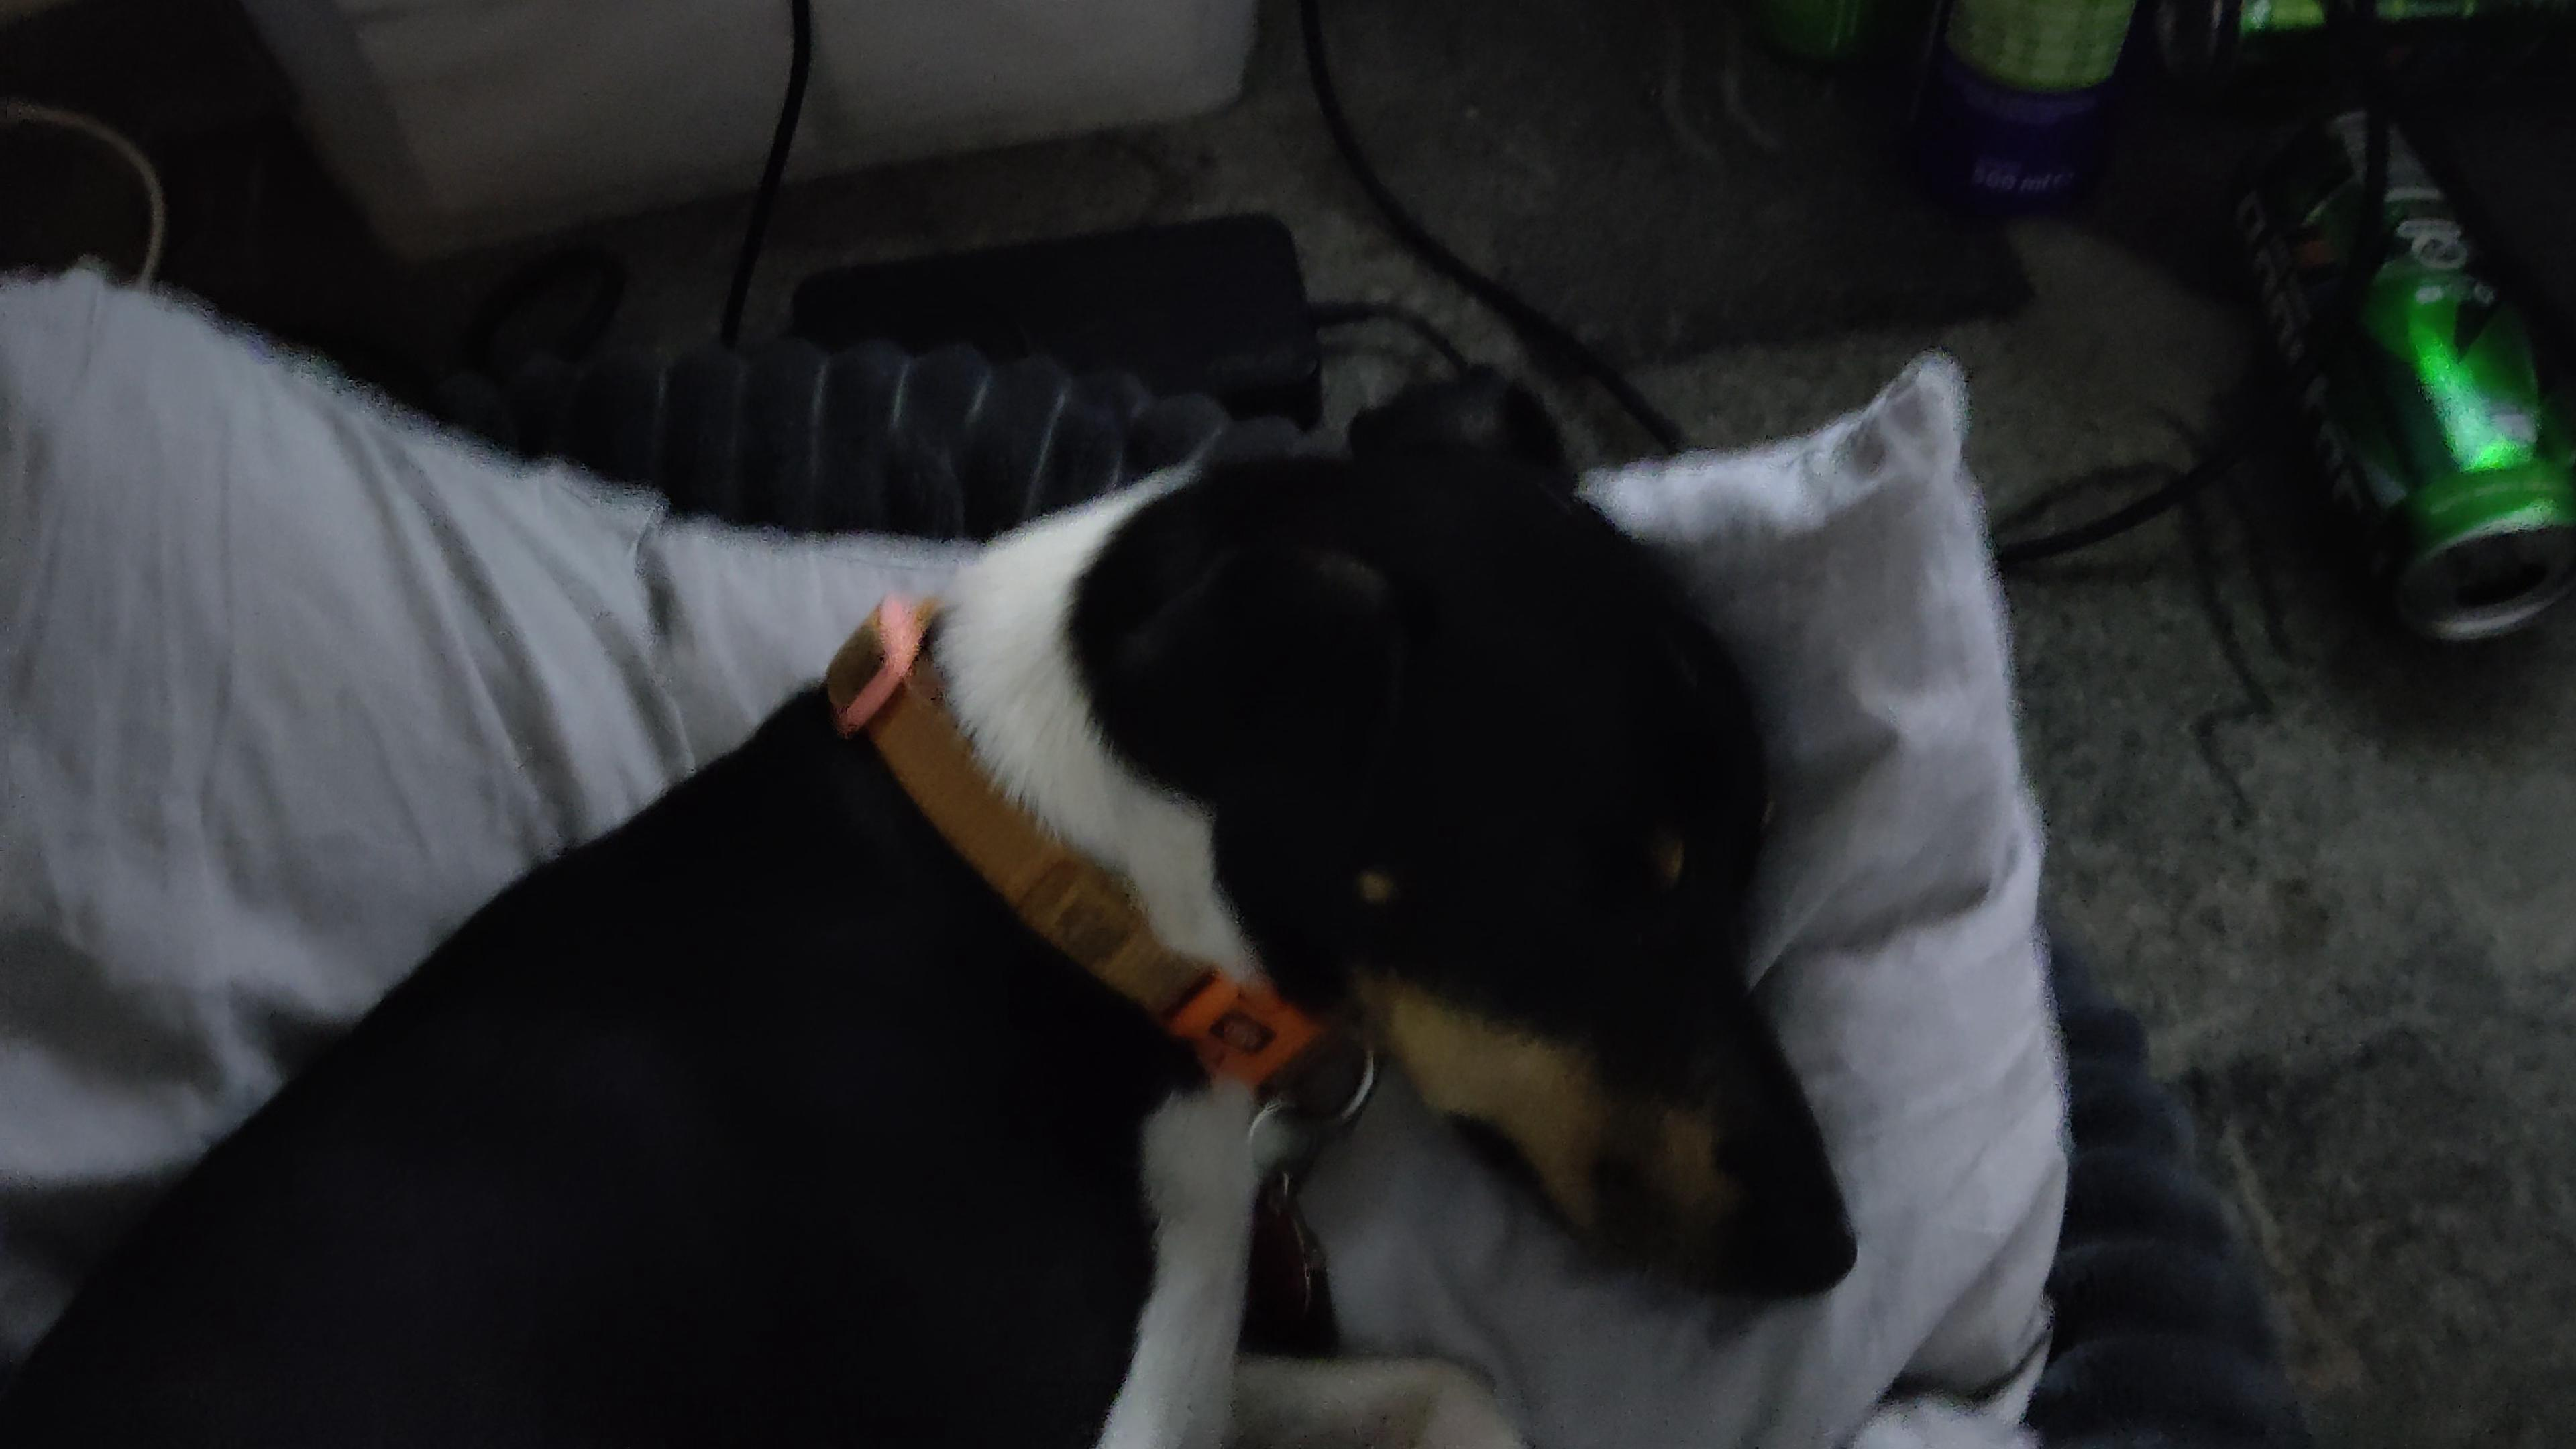Dog: (0, 331, 1882, 1442)
